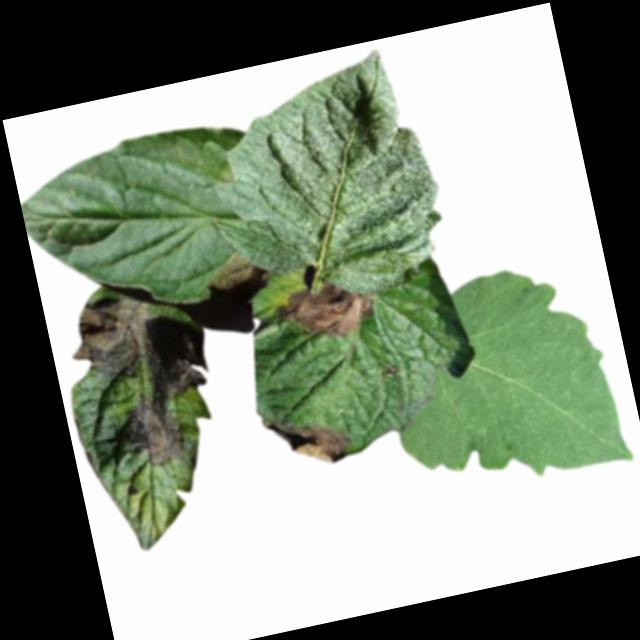Late_blight: (60, 277, 215, 416), (269, 272, 379, 352), (117, 391, 204, 482), (263, 403, 356, 475), (205, 247, 269, 295), (381, 358, 403, 377)
